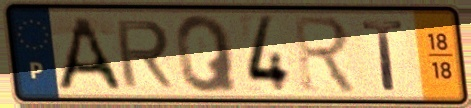4: (243, 12, 294, 97)
A: (54, 15, 125, 93)
Q: (172, 13, 241, 96)
R: (290, 14, 361, 97), (111, 18, 177, 90)
T: (358, 18, 408, 93)
